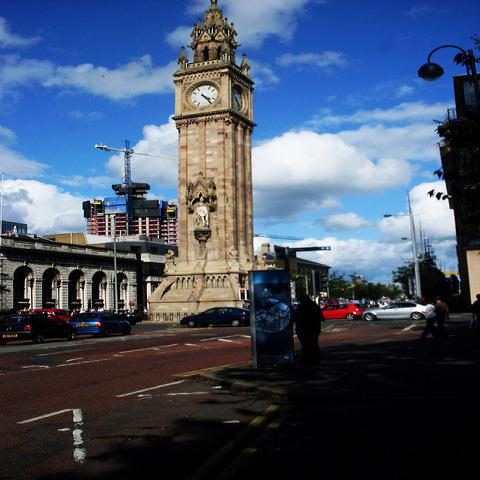car: (0, 313, 78, 344), (363, 300, 434, 322), (69, 312, 131, 336), (181, 307, 250, 328), (321, 304, 367, 320), (34, 308, 71, 325), (115, 313, 142, 325)
